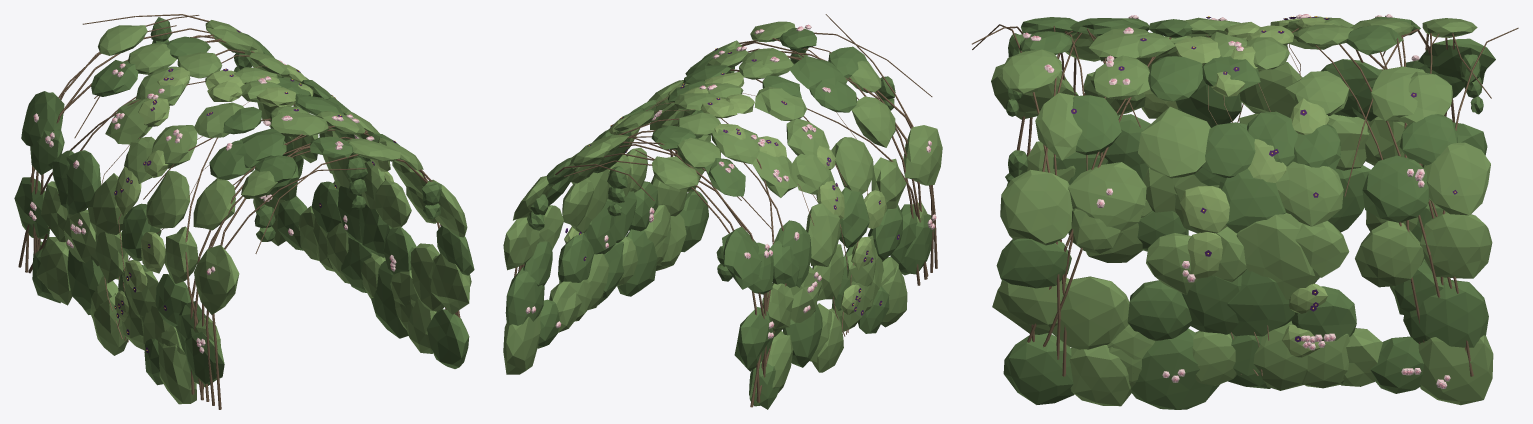
The model's file is viraglugas-rozsas.glb.
3 renders of one model, left to right at view 1: azimuth 30°, elevation 25°; view 2: azimuth 150°, elevation 25°; view 3: azimuth 270°, elevation 25°, orthographic. The views are drawn at different scales.
Visible parts, largest first — view 1: lomb-rozsa, lomb-rozsa-arnyek, lomb-iszalag, vesszo-rozsa, virag-rozsa, virag-iszalag-lila, virag-rozsa-kozep; view 2: lomb-rozsa, lomb-rozsa-arnyek, vesszo-rozsa, lomb-iszalag, virag-rozsa, virag-iszalag-lila, virag-rozsa-kozep, vesszo-iszalag; view 3: lomb-rozsa, lomb-rozsa-arnyek, lomb-iszalag, vesszo-rozsa, virag-rozsa, virag-iszalag-lila, virag-rozsa-kozep.
Boxes of the visible parts, <box> form: lomb-rozsa: <box>36,20,471,404</box>; lomb-rozsa-arnyek: <box>14,17,474,386</box>; lomb-iszalag: <box>114,64,393,321</box>; vesszo-rozsa: <box>18,14,460,409</box>; virag-rozsa: <box>29,60,427,353</box>; virag-iszalag-lila: <box>114,30,396,352</box>; virag-rozsa-kozep: <box>29,61,427,351</box>; lomb-rozsa: <box>503,21,942,392</box>; lomb-rozsa-arnyek: <box>505,28,934,409</box>; vesszo-rozsa: <box>514,14,937,407</box>; lomb-iszalag: <box>564,72,886,314</box>; virag-rozsa: <box>525,25,936,338</box>; virag-iszalag-lila: <box>565,48,899,315</box>; virag-rozsa-kozep: <box>528,24,936,337</box>; vesszo-iszalag: <box>646,93,867,336</box>; lomb-rozsa: <box>991,17,1493,406</box>; lomb-rozsa-arnyek: <box>996,16,1495,409</box>; lomb-iszalag: <box>1141,16,1334,357</box>; vesszo-rozsa: <box>972,24,1518,376</box>; virag-rozsa: <box>1023,14,1450,388</box>; virag-iszalag-lila: <box>1071,16,1457,342</box>; virag-rozsa-kozep: <box>1025,14,1448,387</box>.
Size of the model in its own units: 3.57 by 3.35 by 5.38.
